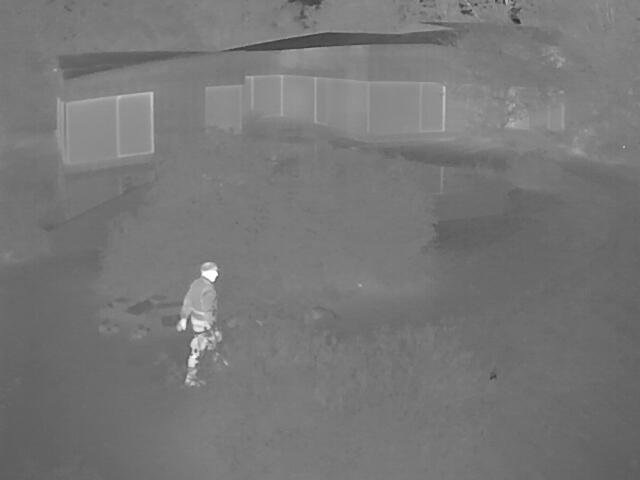person: (173, 261, 228, 391)
